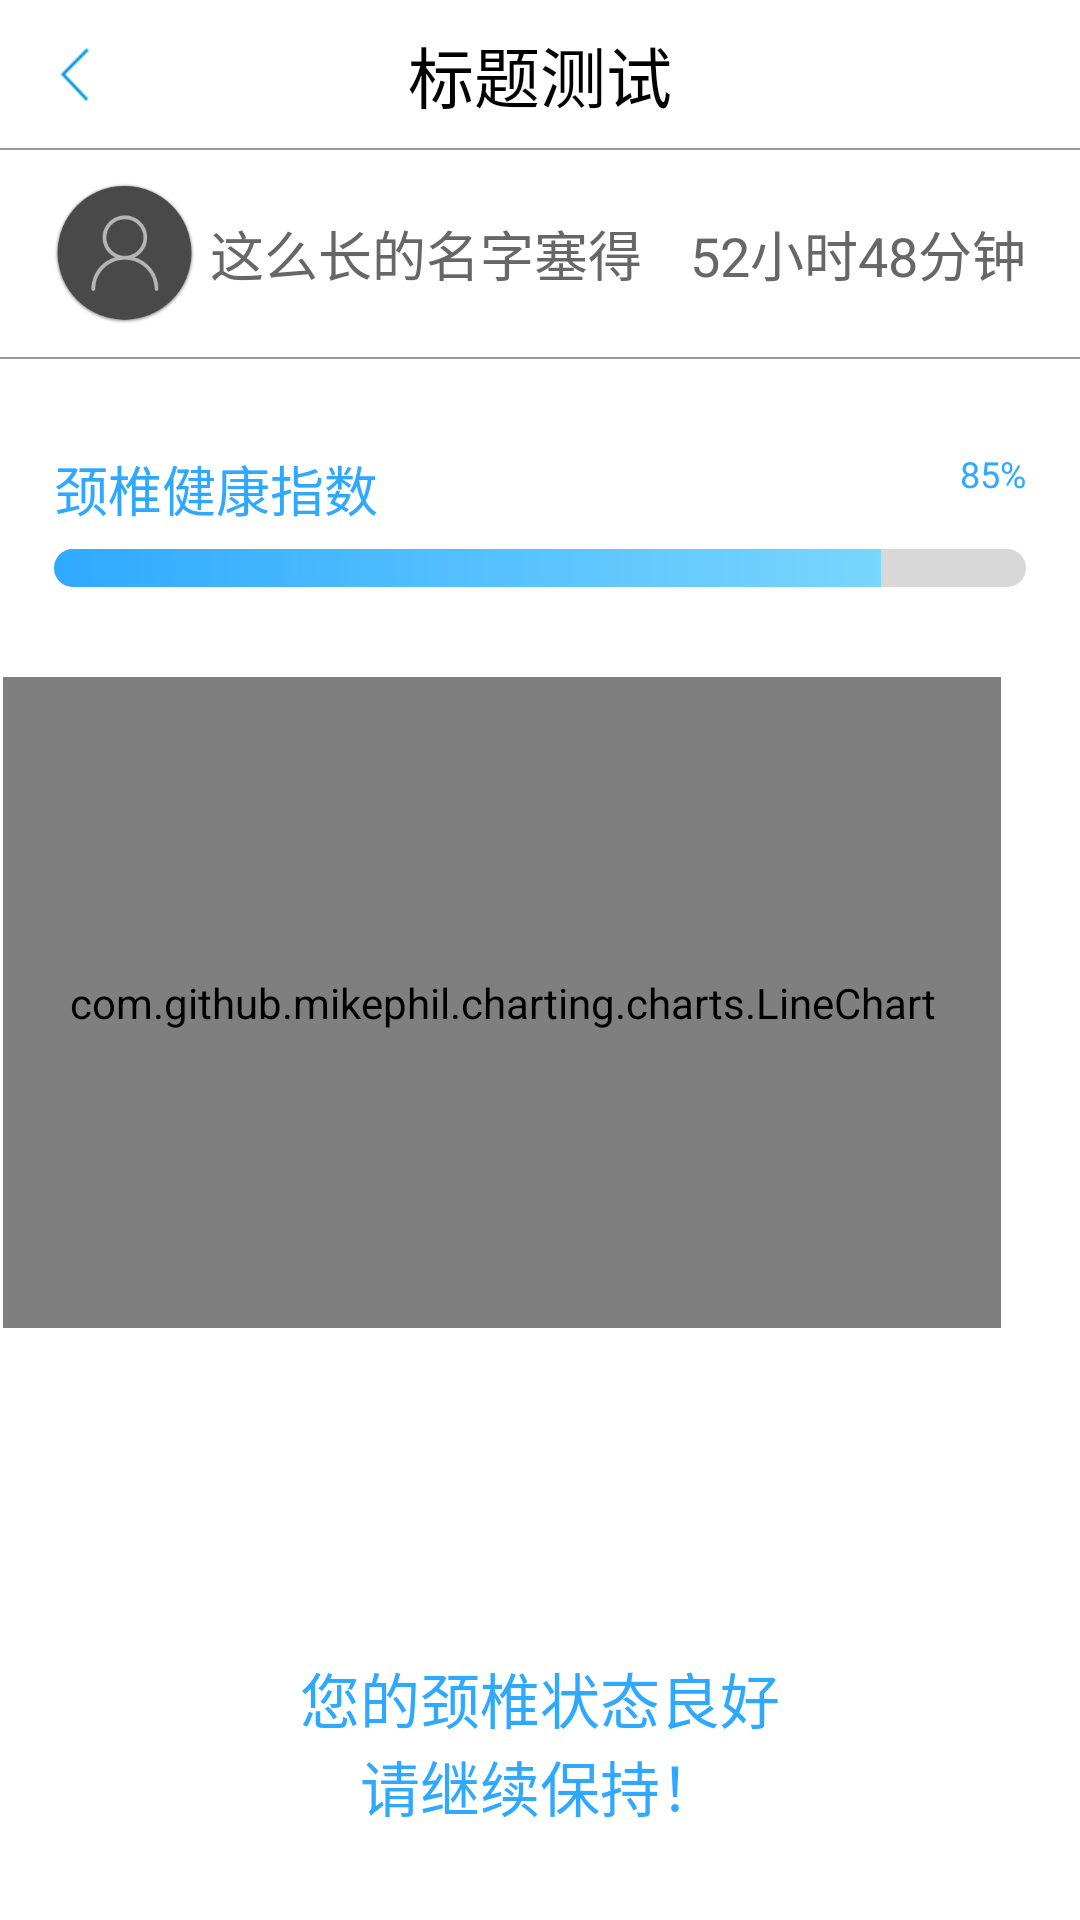

Point at icon controls on the screen. Image size 1080w x 1920h, points as (x,y).
back: (74,74)
nologin: (124,253)
